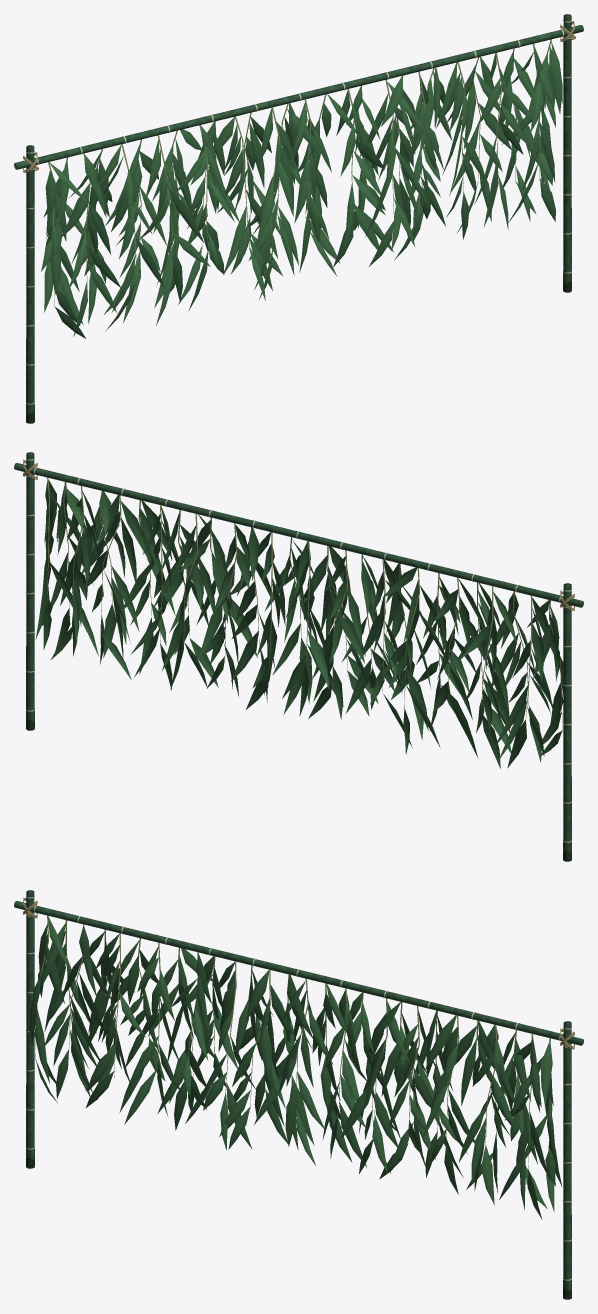
The model's file is nyanisyarud-bamboo-sasa-gate-b.glb.
3 renders of one model, top to bottom at view 1: azimuth 30°, elevation 25°; view 2: azimuth 150°, elevation 25°; view 3: azimuth 330°, elevation 25°, orthographic.
Parts seen in each view (by area): view 1: Silken bamboo leaves, Jade bamboo, Slender hanging twigs; view 2: Silken bamboo leaves, Jade bamboo, Slender hanging twigs; view 3: Silken bamboo leaves, Jade bamboo, Slender hanging twigs.
Boxes of the visible parts, bbox=[...] form: Silken bamboo leaves: bbox=[41, 41, 562, 338]; Jade bamboo: bbox=[14, 14, 583, 415]; Slender hanging twigs: bbox=[48, 39, 551, 306]; Silken bamboo leaves: bbox=[35, 480, 563, 768]; Jade bamboo: bbox=[14, 452, 583, 852]; Slender hanging twigs: bbox=[46, 477, 562, 732]; Silken bamboo leaves: bbox=[29, 916, 562, 1219]; Jade bamboo: bbox=[14, 890, 583, 1291]; Slender hanging twigs: bbox=[35, 915, 550, 1170].
Bounding box in the file's own units: 9.7 × 4.5 × 1.05.
Materials: 6 (4 with a texture image).
